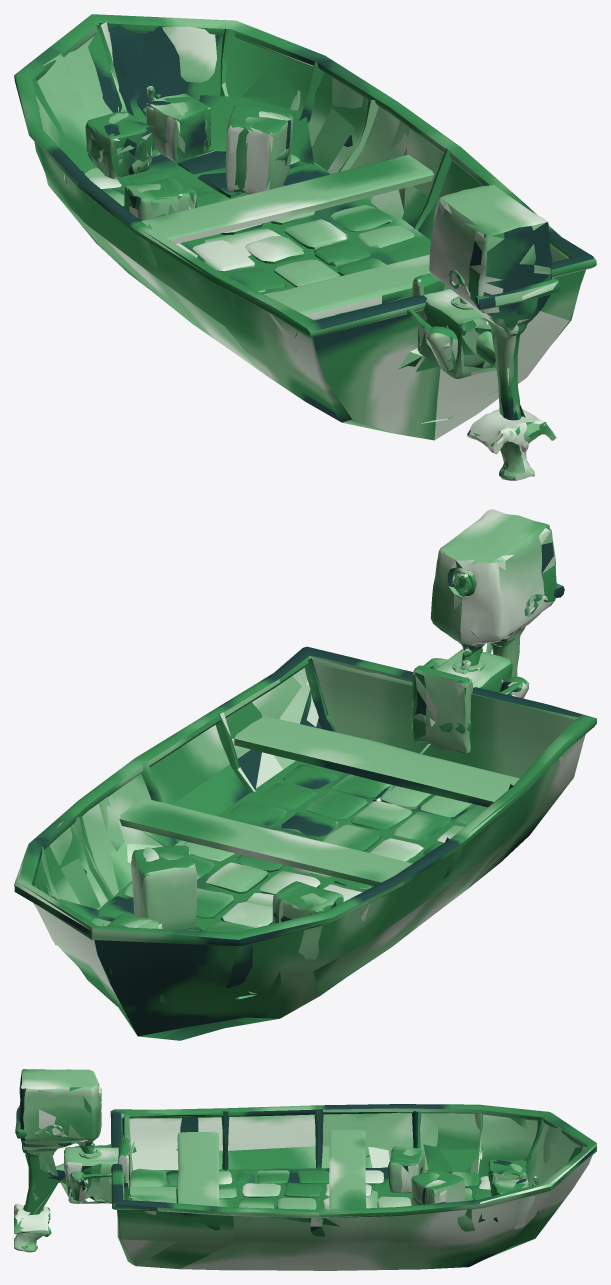
The model's file is skiff.glb.
3 views of the same model, one above another, from view 1: azimuth 30°, elevation 25°; view 2: azimuth 150°, elevation 25°; view 3: azimuth 270°, elevation 25° (orthographic). The views are drawn at different scales.
Parts seen in each view (by area): view 1: skiff; view 2: skiff; view 3: skiff.
Boxes of the visible parts, bbox=[...] form: skiff: bbox=[14, 14, 596, 480]; skiff: bbox=[14, 509, 596, 1040]; skiff: bbox=[14, 1069, 596, 1270].
Size of the model in its own units: 2.03 by 1.64 by 4.6.
Materials: 1 (1 with a texture image).
